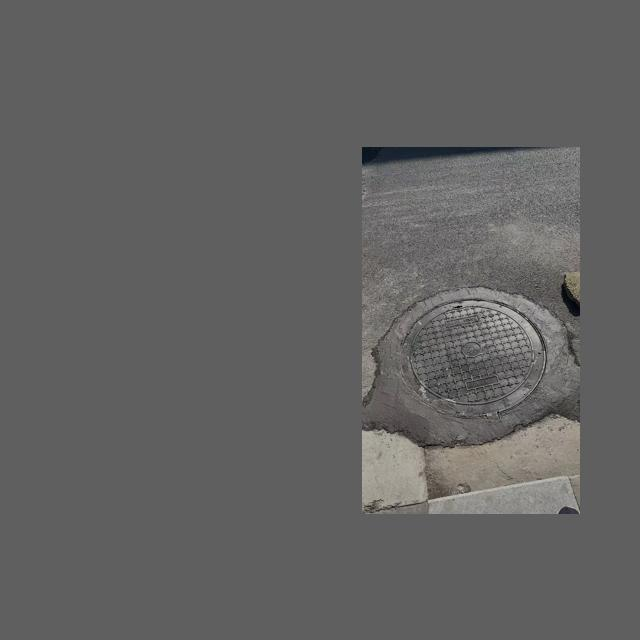good: (366, 286, 576, 449)
